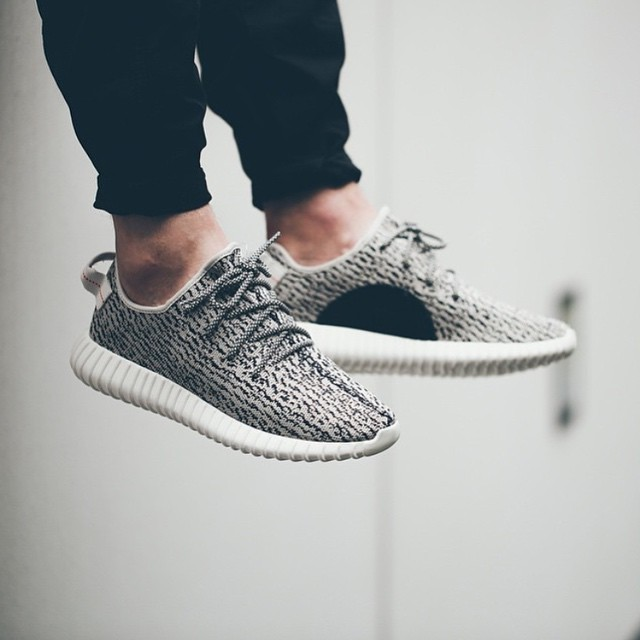sneaker: (44, 205, 414, 492), (238, 190, 592, 399)
